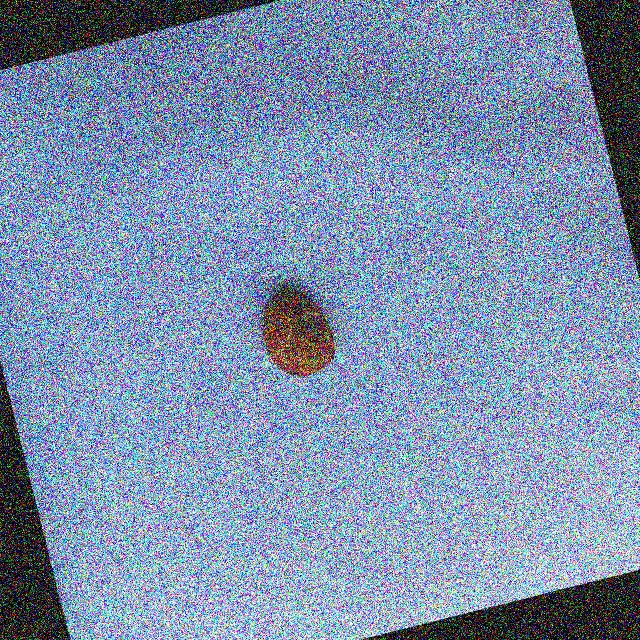grade3: (250, 275, 347, 388)
